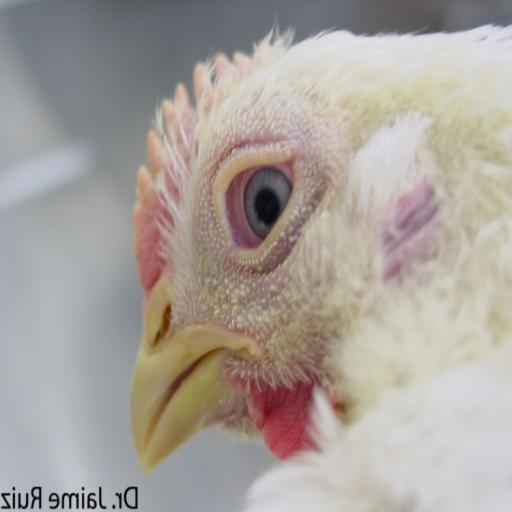disease: (186, 120, 349, 288)
